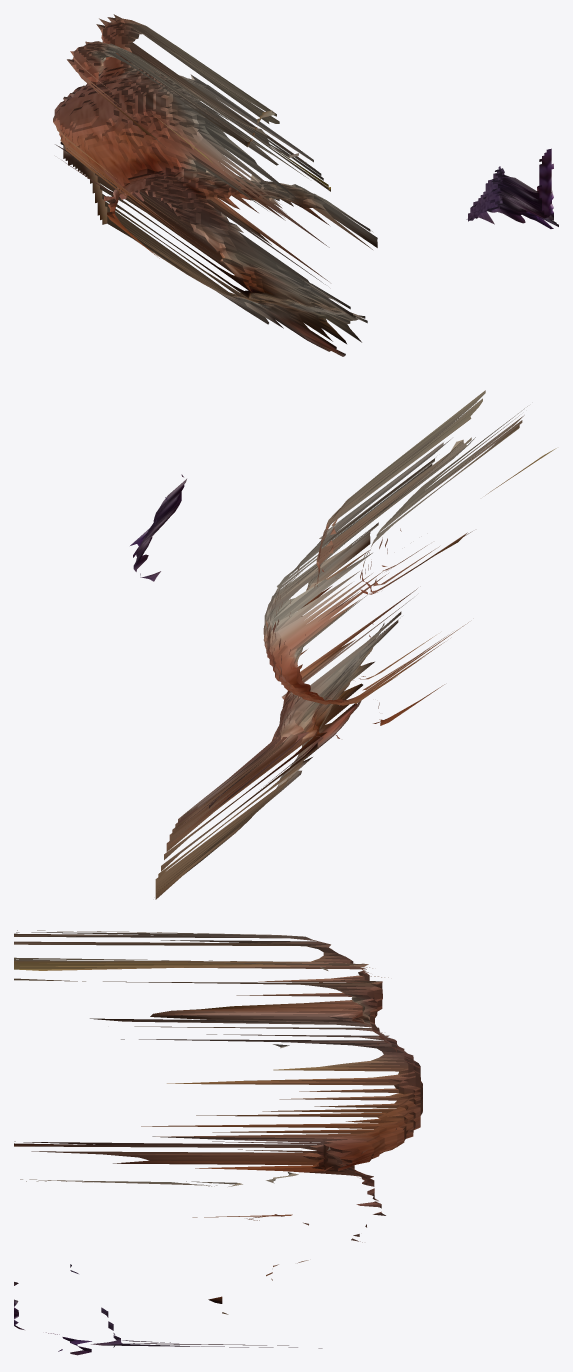
The model's file is frame_00317.glb.
3 renders of one model, top to bottom at view 1: azimuth 30°, elevation 25°; view 2: azimuth 150°, elevation 25°; view 3: azimuth 270°, elevation 25°, orthographic. The views are drawn at different scales.
Visible parts, largest first — view 1: geometry_0; view 2: geometry_0; view 3: geometry_0.
Boxes of the visible parts, x1,y1,x2,y2 form: geometry_0: (53, 14, 558, 356); geometry_0: (130, 390, 556, 899); geometry_0: (14, 930, 422, 1355).
Size of the model in its own units: 0.1397 by 0.1144 by 0.16.
1 material, 1 textured.
